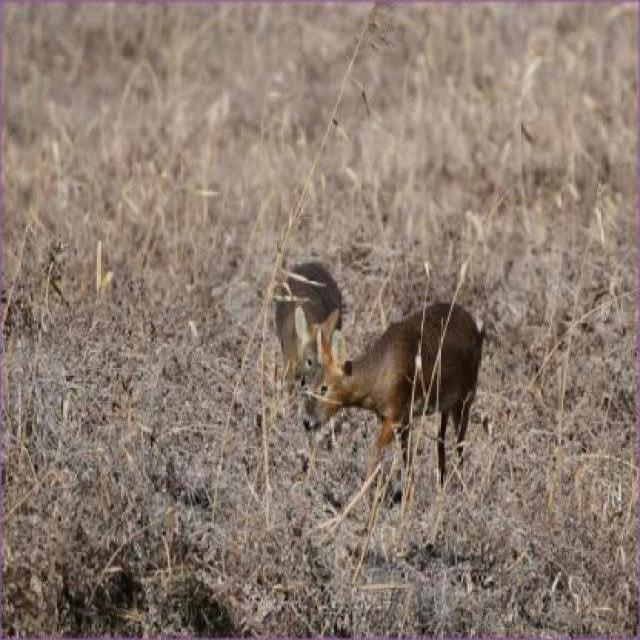deer: (297, 330, 486, 513), (272, 263, 332, 385)
